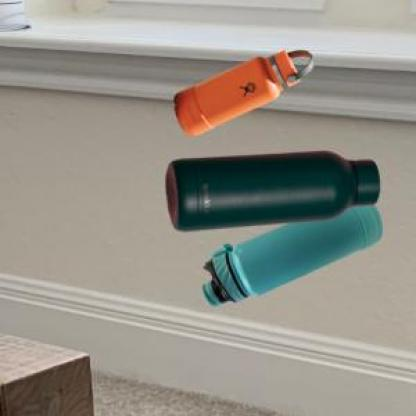bottle: (199, 201, 384, 309), (160, 149, 383, 233), (170, 46, 316, 141)
